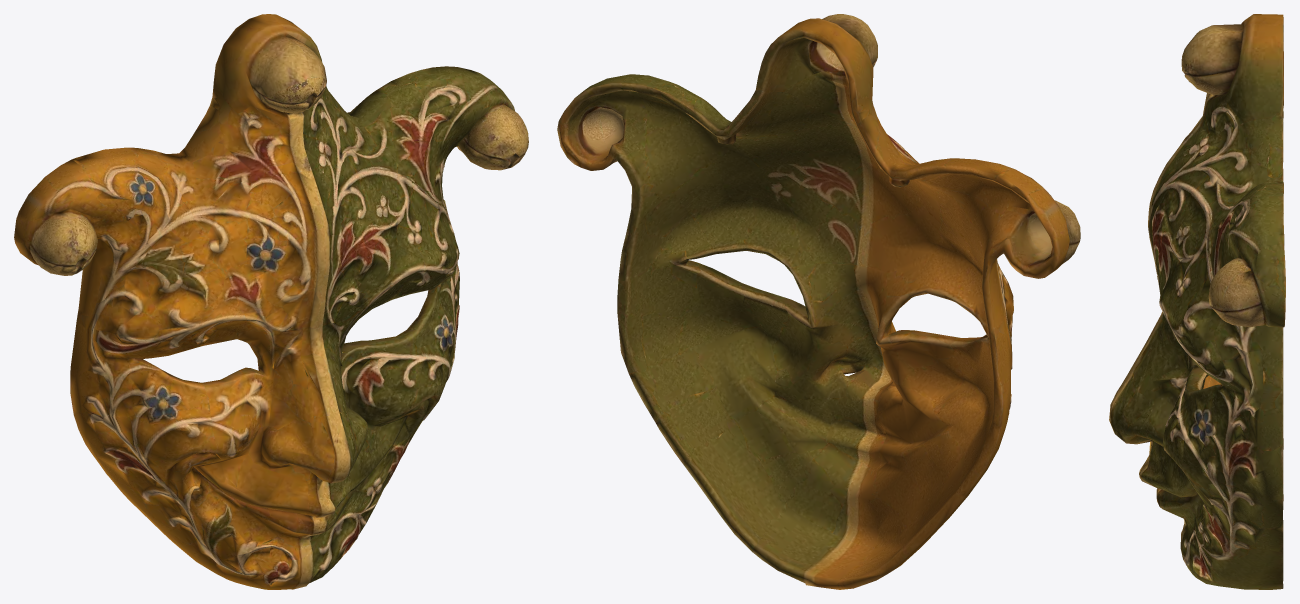
The picture shows the model from 3 angles, left to right: view 1: azimuth 30°, elevation 25°; view 2: azimuth 150°, elevation 25°; view 3: azimuth 270°, elevation 25°; orthographic projection. The views are drawn at different scales.
Size of the model in its own units: 1.79 by 1.9 by 0.5425.
1 material, 1 textured.
